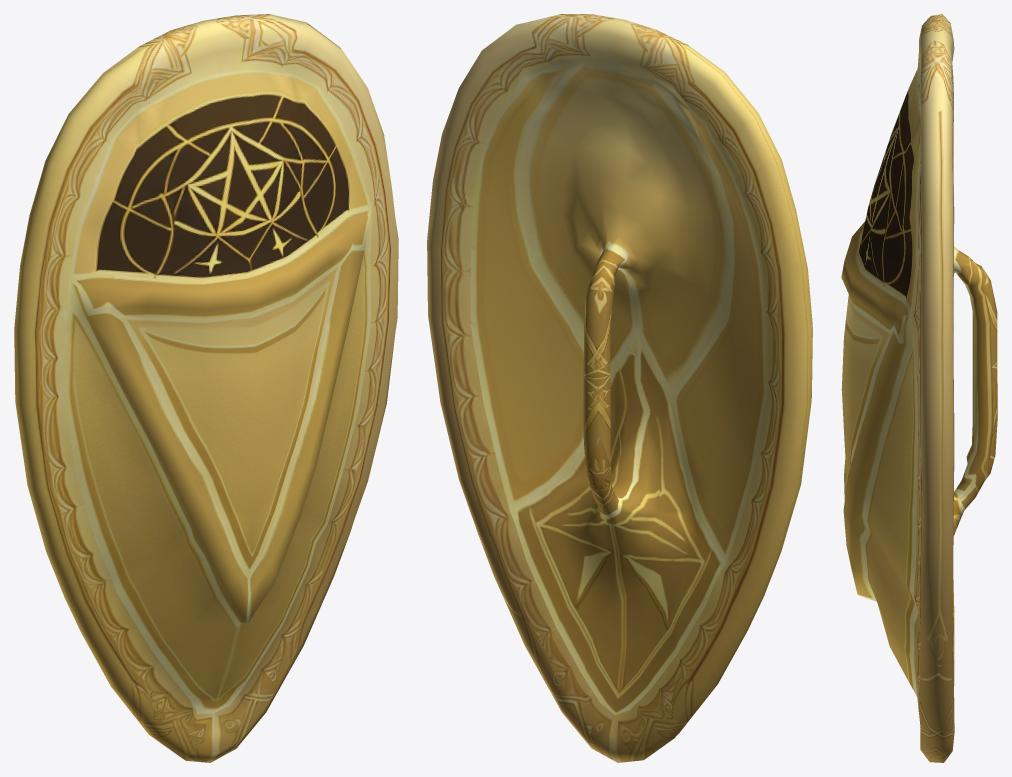
3 renders of one model, left to right at view 1: azimuth 30°, elevation 25°; view 2: azimuth 150°, elevation 25°; view 3: azimuth 270°, elevation 25°, orthographic. The views are drawn at different scales.
Visible parts, largest first — view 1: 7abe9a2b33d6443d83b5d54e467aaac5; view 2: 7abe9a2b33d6443d83b5d54e467aaac5; view 3: 7abe9a2b33d6443d83b5d54e467aaac5.
Part boxes in pixels (left/top/right/bottom): 7abe9a2b33d6443d83b5d54e467aaac5: left=14, top=14, right=398, bottom=762; 7abe9a2b33d6443d83b5d54e467aaac5: left=427, top=14, right=812, bottom=762; 7abe9a2b33d6443d83b5d54e467aaac5: left=841, top=14, right=997, bottom=762.
Size of the model in its own units: 0.5384 by 1 by 0.1959.
Materials: 1 (1 with a texture image).
